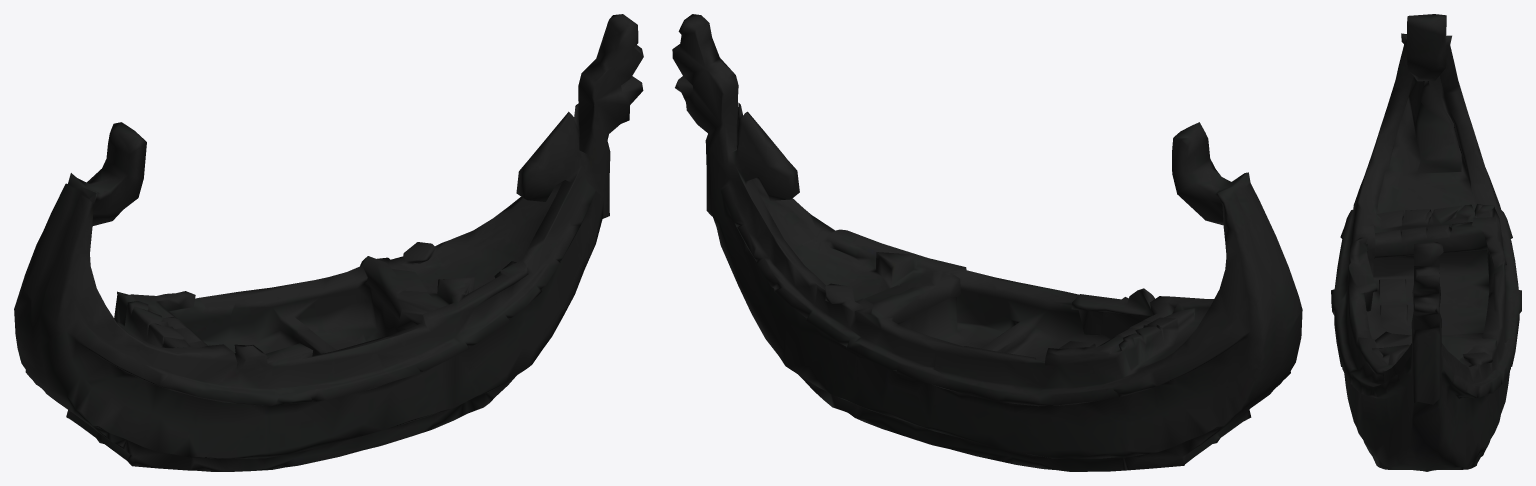
Rendered from gondola.glb.
The picture shows the model from 3 angles, left to right: view 1: azimuth 30°, elevation 25°; view 2: azimuth 150°, elevation 25°; view 3: azimuth 270°, elevation 25°; orthographic projection. The views are drawn at different scales.
Parts seen in each view (by area): view 1: tripo_node_be41c1a9-b037-47e7-8b99-9f0cd343b222; view 2: tripo_node_be41c1a9-b037-47e7-8b99-9f0cd343b222; view 3: tripo_node_be41c1a9-b037-47e7-8b99-9f0cd343b222.
Part boxes in pixels (x1,y1,x2,y2): tripo_node_be41c1a9-b037-47e7-8b99-9f0cd343b222: (14, 14, 643, 471); tripo_node_be41c1a9-b037-47e7-8b99-9f0cd343b222: (672, 14, 1302, 471); tripo_node_be41c1a9-b037-47e7-8b99-9f0cd343b222: (1331, 14, 1521, 471).
Bounding box in the file's own units: 1 × 0.5407 × 0.3031.
1 material, 1 textured.
